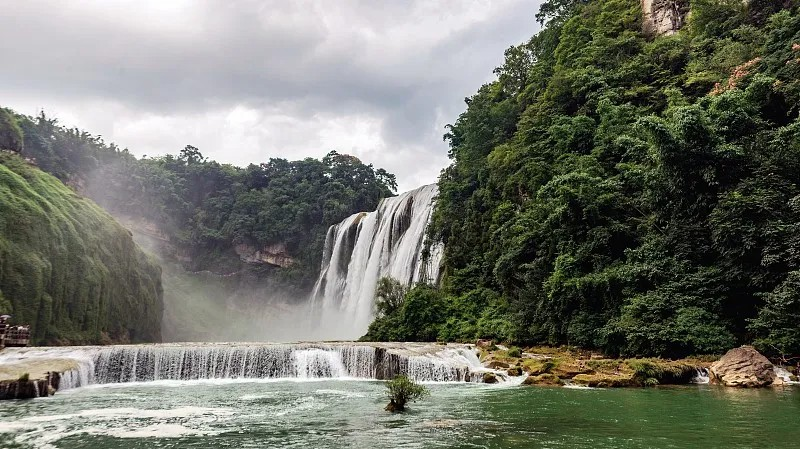Huangguoshu: (310, 183, 445, 341)
